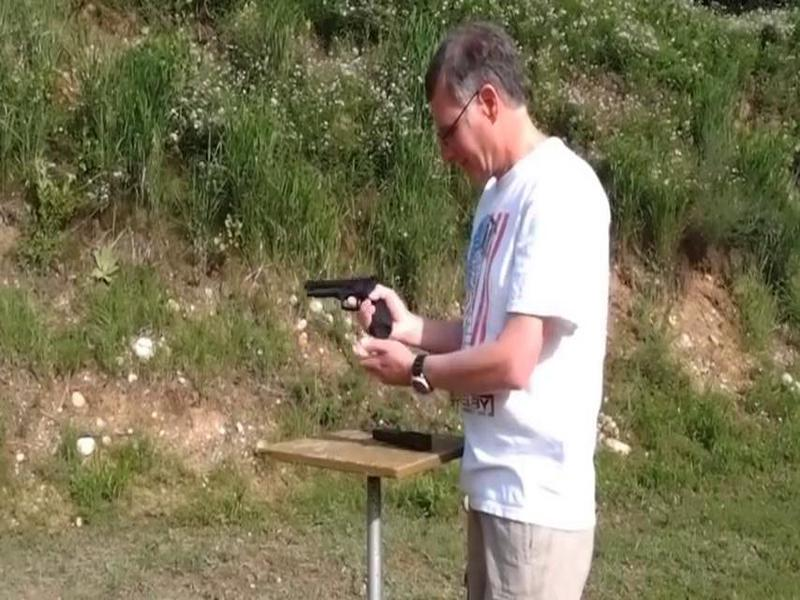Pistola: (287, 264, 411, 349)
